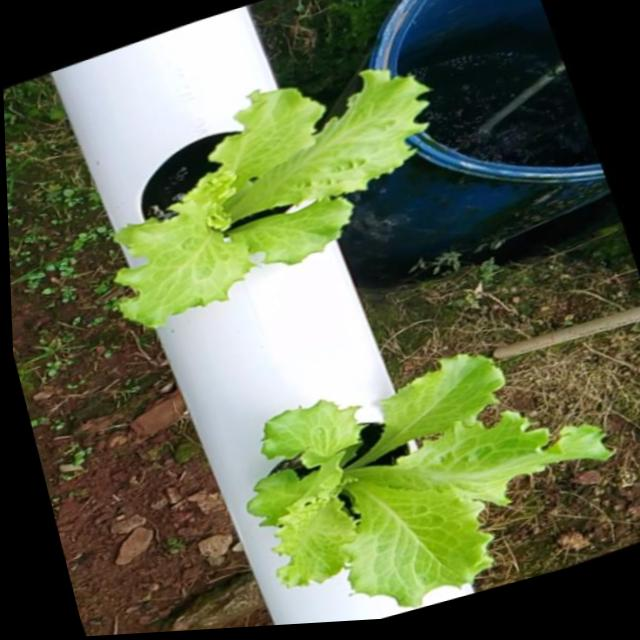Baby: (244, 354, 609, 609), (110, 65, 426, 325)
